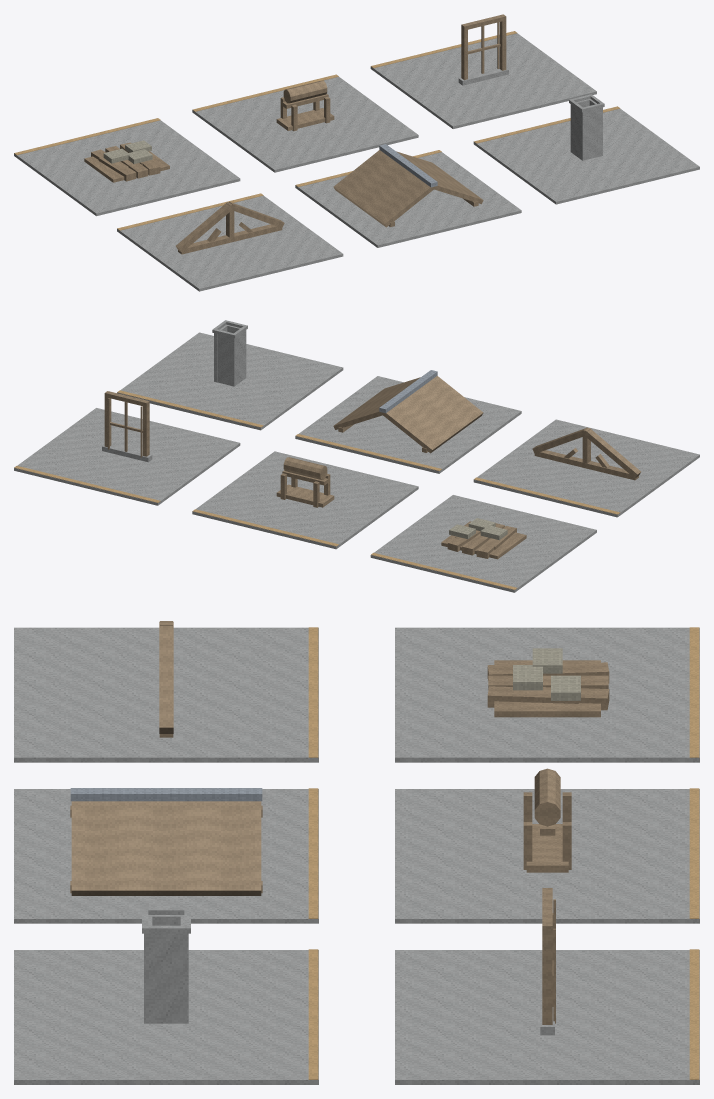
The model's file is level_blockout_kit_farmhouse_p03.glb.
3 renders of one model, top to bottom at view 1: azimuth 30°, elevation 25°; view 2: azimuth 150°, elevation 25°; view 3: azimuth 270°, elevation 25°, orthographic. The views are drawn at different scales.
Parts seen in each view (by area): view 1: level_blockout_kit_farmhouse_p03; view 2: level_blockout_kit_farmhouse_p03; view 3: level_blockout_kit_farmhouse_p03.
Part boxes in pixels (left/top/right/bottom): level_blockout_kit_farmhouse_p03: left=14, top=14, right=699, bottom=291; level_blockout_kit_farmhouse_p03: left=14, top=320, right=699, bottom=592; level_blockout_kit_farmhouse_p03: left=14, top=621, right=699, bottom=1084.
Bounding box in the file's own units: 19.65 × 2.29 × 12.6.
5 materials, 5 textured.
